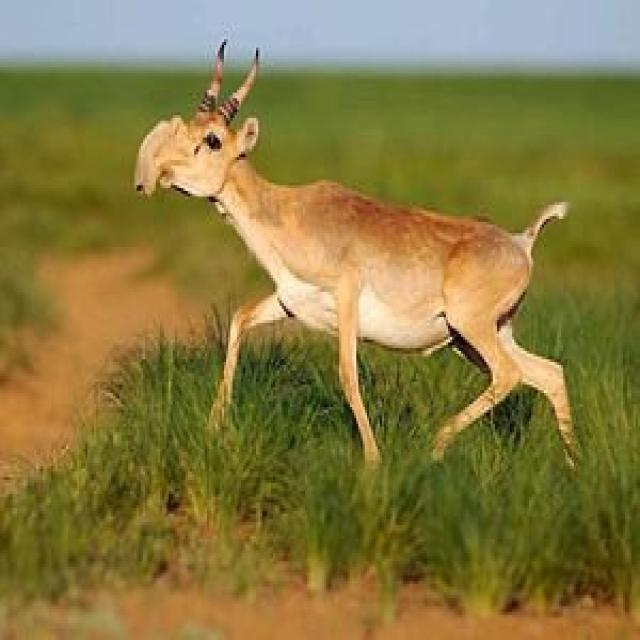Antelope: (128, 33, 588, 471)
